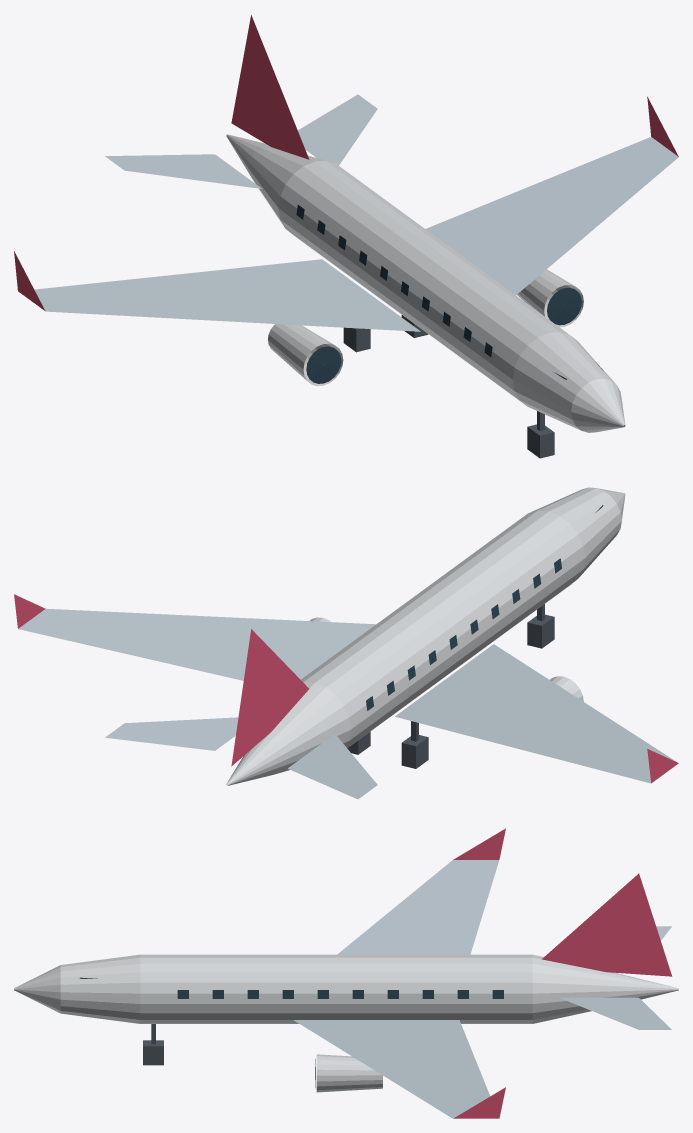
The model's file is a320-THY.gltf.
3 renders of one model, top to bottom at view 1: azimuth 30°, elevation 25°; view 2: azimuth 150°, elevation 25°; view 3: azimuth 270°, elevation 25°, orthographic. The views are drawn at different scales.
Parts seen in each view (by area): view 1: object 1, Gear; view 2: object 1, Gear; view 3: object 1, Gear.
Boxes of the visible parts, x1,y1,x2,y2 form: object 1: [14, 15, 678, 432]; Gear: [343, 315, 554, 458]; object 1: [14, 487, 678, 799]; Gear: [347, 604, 554, 768]; object 1: [14, 828, 678, 1118]; Gear: [143, 1024, 163, 1065].
Bounding box in the file's own units: 35 × 11.92 × 38.
